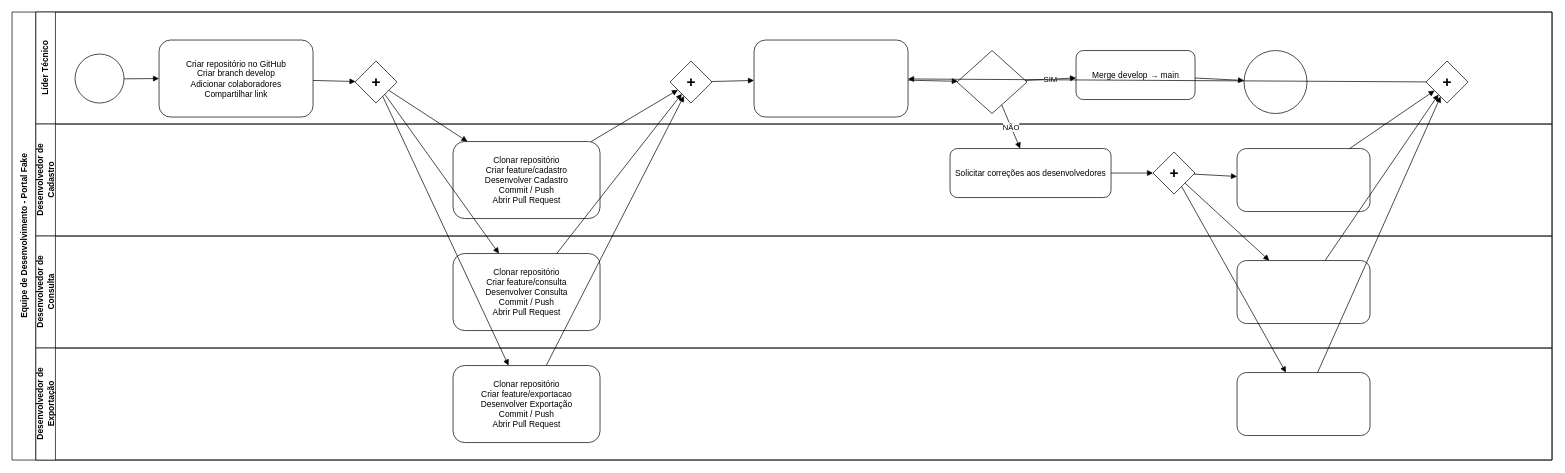
Some shapes in this 1565 by 473 pixel diagram are drawn without their labels. Here are the shapes that lost their labels. From the top down, the centre of each, then its label:
point (99, 78): Início do Projeto
point (830, 78): Revisar Pull Requests Validar módulos Testar integração Merge feature → develop
point (991, 82): Sistema aprovado?
point (1275, 82): Sistema aprovado e processo encerrado
point (1303, 180): Corrigir Cadastro Commit / Push Novo Pull Request
point (1303, 292): Corrigir Consulta Commit / Push Novo Pull Request
point (1303, 404): Corrigir Exportação Commit / Push Novo Pull Request
